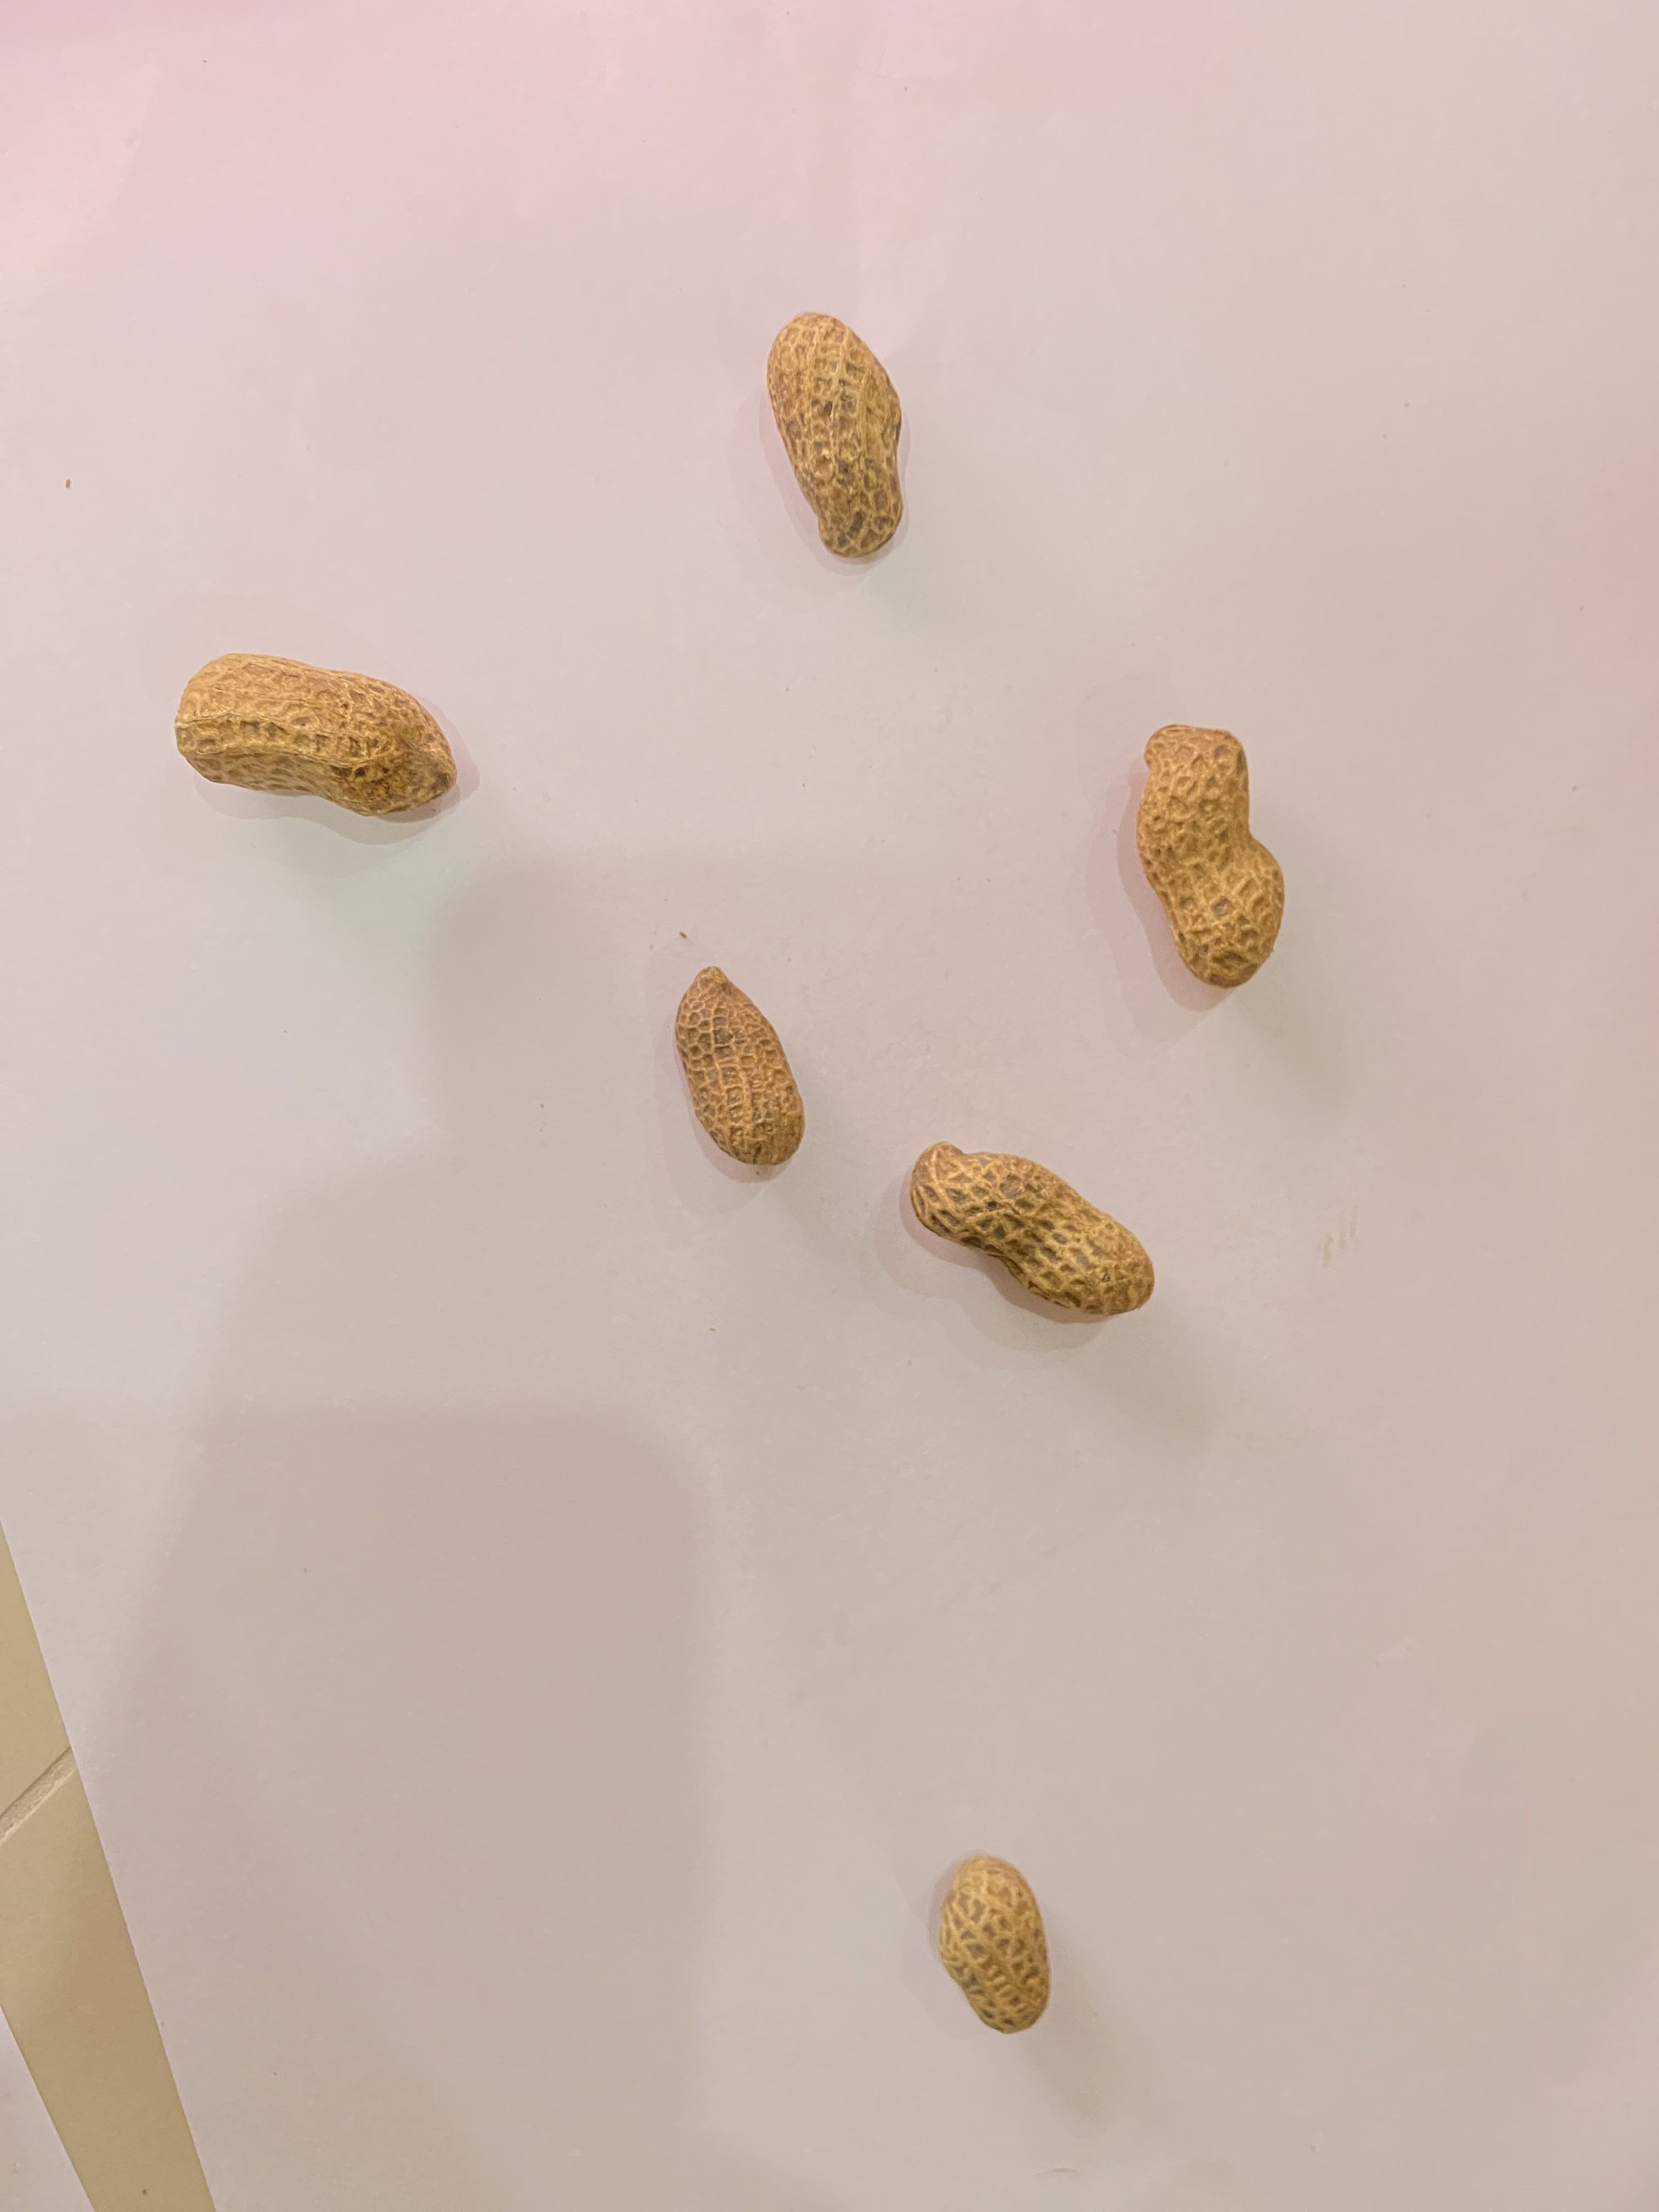kacang1: (875, 1846, 1115, 2031), (647, 948, 842, 1170)
kacang2: (143, 637, 502, 841), (913, 1129, 1168, 1325), (1124, 700, 1288, 998), (762, 308, 929, 570)
